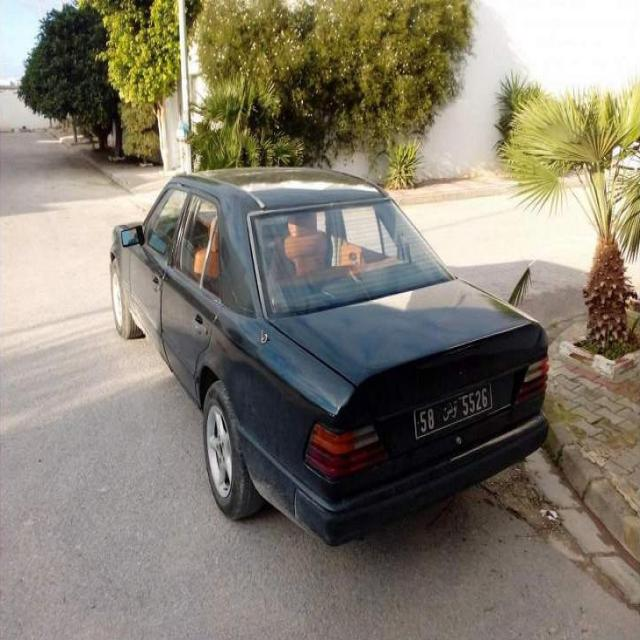licence plate: (416, 384, 491, 437)
